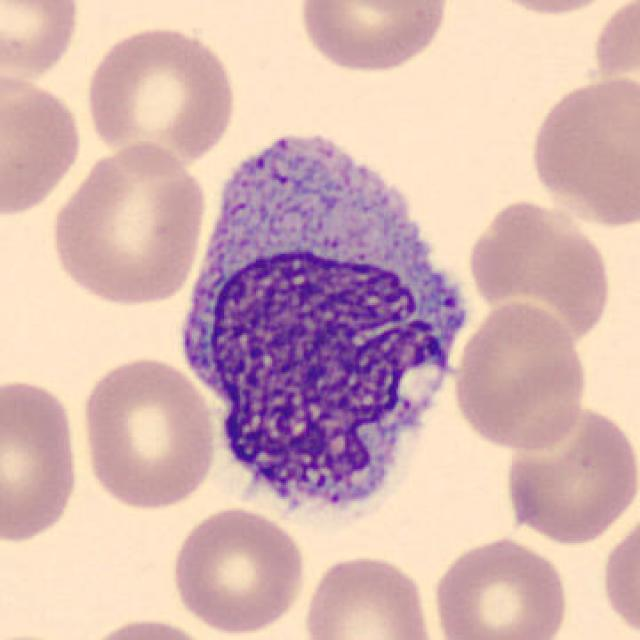Monocyte: (167, 111, 482, 533)
RBC: (46, 139, 210, 309), (80, 19, 242, 171), (464, 194, 615, 351), (76, 353, 220, 513), (450, 296, 590, 455), (500, 398, 638, 548), (167, 504, 309, 636), (524, 70, 638, 231), (428, 532, 572, 640), (0, 372, 84, 548), (0, 68, 85, 222), (299, 550, 441, 640), (295, 0, 453, 76), (0, 0, 84, 83), (597, 502, 640, 640), (76, 613, 222, 640), (473, 0, 629, 18)
